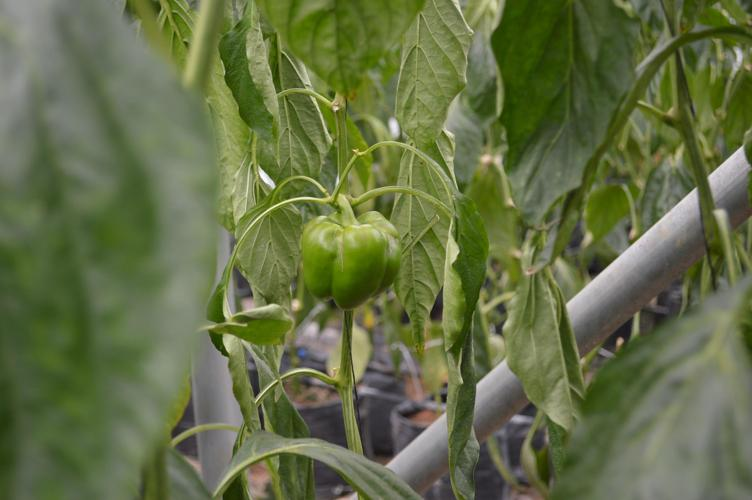BellPepper: (292, 209, 400, 317)
